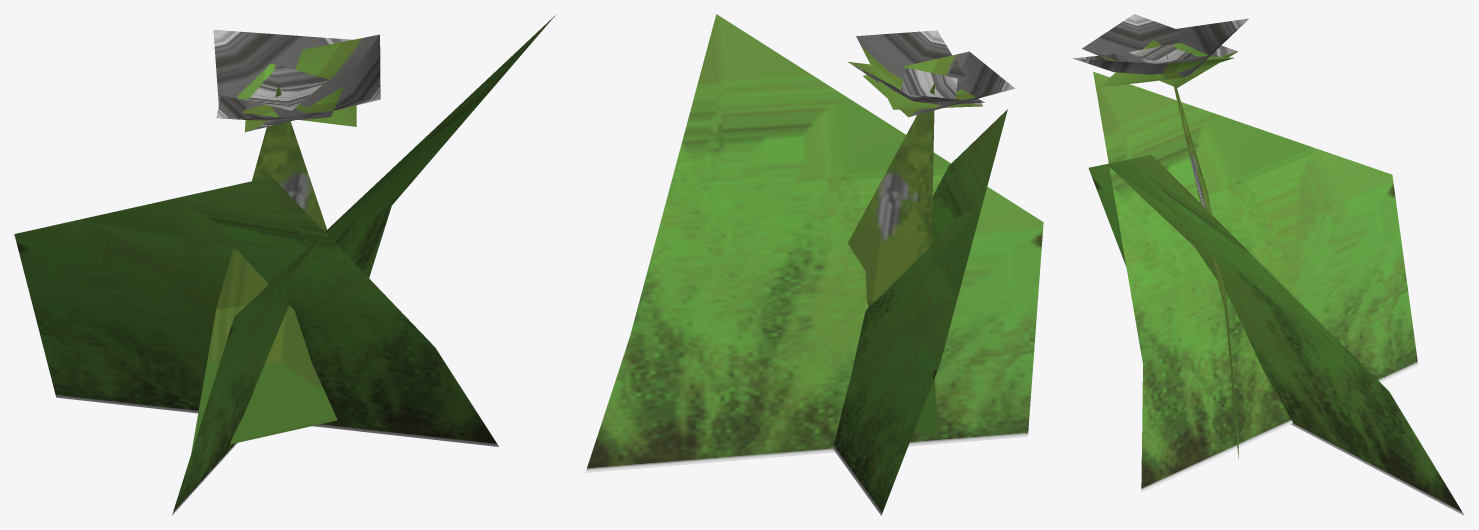
File: Fleur_05A.fbx
3 views of the same model, side by side, from view 1: azimuth 30°, elevation 25°; view 2: azimuth 150°, elevation 25°; view 3: azimuth 270°, elevation 25° (orthographic). The views are drawn at different scales.
Visible parts, largest first — view 1: Fleur_05A; view 2: Fleur_05A; view 3: Fleur_05A.
Part boxes in pixels (<box>): Fleur_05A: <box>14,15,555,515</box>; Fleur_05A: <box>585,14,1043,515</box>; Fleur_05A: <box>1073,14,1464,515</box>.
Size of the model in its own units: 0.4432 by 0.4553 by 0.4199.
